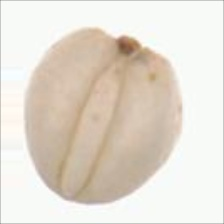L5: (55, 57, 126, 203), (102, 26, 157, 66)
L6: (21, 26, 185, 206)
